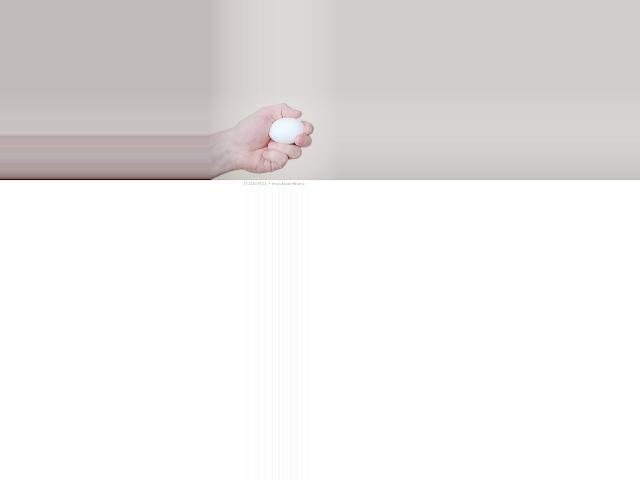egg: (268, 117, 303, 143)
